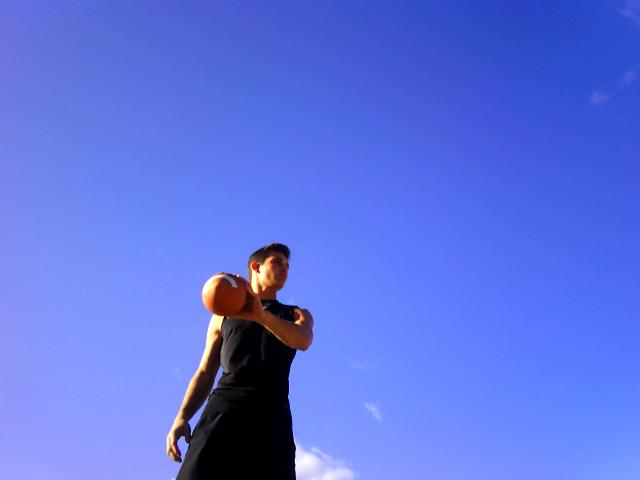footbal: (200, 271, 250, 320)
